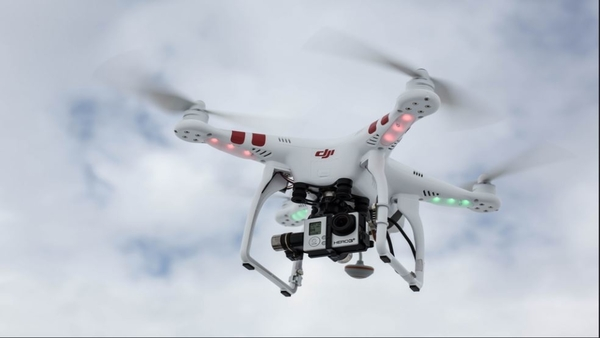drone: (134, 50, 521, 299)
